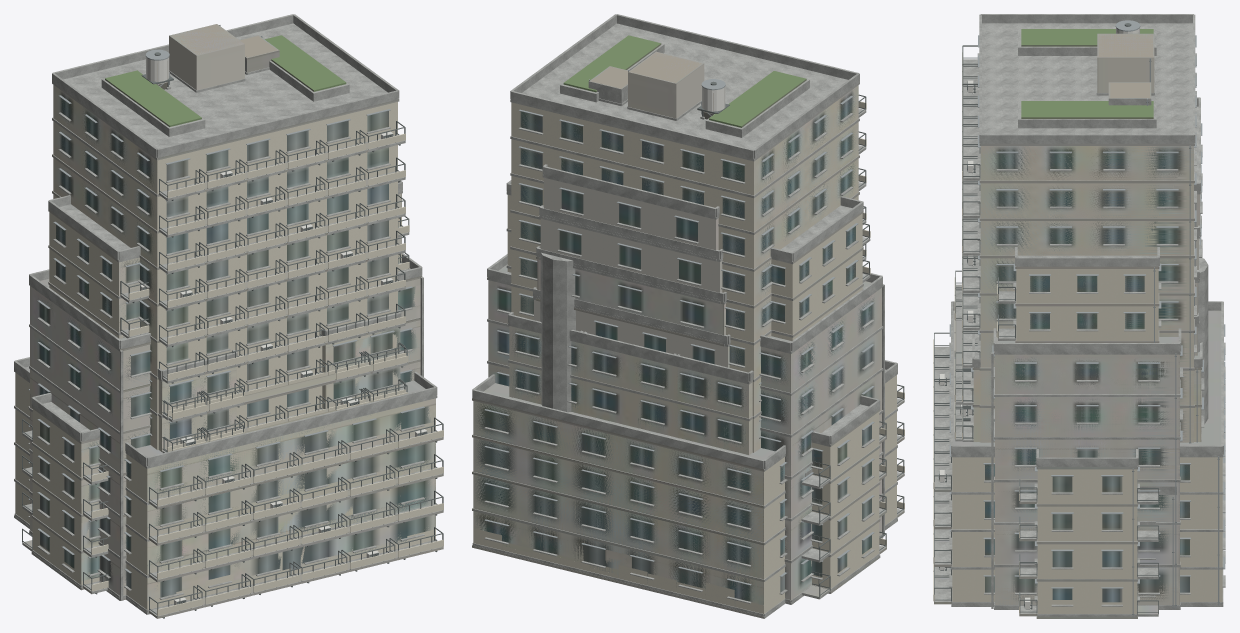
Rendered from building_02.glb.
The picture shows the model from 3 angles, left to right: view 1: azimuth 30°, elevation 25°; view 2: azimuth 150°, elevation 25°; view 3: azimuth 270°, elevation 25°; orthographic projection. The views are drawn at different scales.
Parts seen in each view (by area): view 1: building_054_normal_Cladding, building_054_normal_Structure, building_054_lod1_Cladding, building_044_lod1_Cladding, building_044_lod2_Cladding, building_054_lod2_Cladding, building_059_lod1_Cladding, building_044_normal_Cladding, building_054_normal_Metalwork, building_044_normal_Structure, building_044_normal_Metalwork, building_043_normal_Cladding (+19 smaller); view 2: building_044_lod1_Cladding, building_044_lod2_Cladding, building_054_normal_Structure, building_054_lod1_Cladding, building_054_normal_Cladding, building_048_lod1_Cladding, building_059_lod2_Cladding, building_060_normal_Cladding, building_059_lod1_Cladding, building_060_lod1_Cladding, building_054_lod2_Cladding, building_060_normal_Structure (+21 smaller); view 3: building_054_lod1_Cladding, building_054_normal_Structure, building_059_lod1_Cladding, building_059_lod2_Cladding, building_054_lod2_Cladding, building_043_normal_Cladding, building_044_normal_Cladding, building_044_normal_Structure, building_041_normal_Cladding, building_059_normal_Structure, building_054_normal_Metalwork, building_054_normal_Cladding (+19 smaller).
Part boxes in pixels (x1,y1,x2,y2): building_054_normal_Cladding: (105,35,405,451); building_054_normal_Structure: (52,14,405,452); building_054_lod1_Cladding: (52,24,399,449); building_044_lod1_Cladding: (14,366,443,618); building_044_lod2_Cladding: (126,406,435,600); building_054_lod2_Cladding: (53,85,388,416); building_059_lod1_Cladding: (29,268,422,600); building_044_normal_Cladding: (15,373,443,615); building_054_normal_Metalwork: (58,25,405,451); building_044_normal_Structure: (14,357,442,616); building_044_normal_Metalwork: (28,389,443,618); building_043_normal_Cladding: (32,409,108,591); building_044_lod1_Cladding: (472,369,904,618); building_044_lod2_Cladding: (473,401,784,605); building_054_normal_Structure: (510,14,866,453); building_054_lod1_Cladding: (510,43,859,452); building_054_normal_Cladding: (511,35,866,452); building_048_lod1_Cladding: (508,326,752,454); building_059_lod2_Cladding: (489,280,881,599); building_060_normal_Cladding: (534,177,727,367); building_059_lod1_Cladding: (487,264,882,599); building_060_lod1_Cladding: (536,189,729,367); building_054_lod2_Cladding: (520,87,858,450); building_060_normal_Structure: (533,164,730,346); building_054_lod1_Cladding: (963,32,1194,442); building_054_normal_Structure: (962,14,1196,442); building_059_lod1_Cladding: (994,337,1180,604); building_059_lod2_Cladding: (995,354,1179,604); building_054_lod2_Cladding: (980,146,1193,442); building_043_normal_Cladding: (1019,469,1137,613); building_044_normal_Cladding: (933,339,1222,601); building_044_normal_Structure: (934,301,1225,606); building_041_normal_Cladding: (997,269,1158,340); building_059_normal_Structure: (991,328,1182,609); building_054_normal_Metalwork: (962,20,1196,443); building_054_normal_Cladding: (962,28,1153,439).
Bounding box in the file's own units: 28.41 × 38.3 × 20.52.
55 materials, 54 textured.
